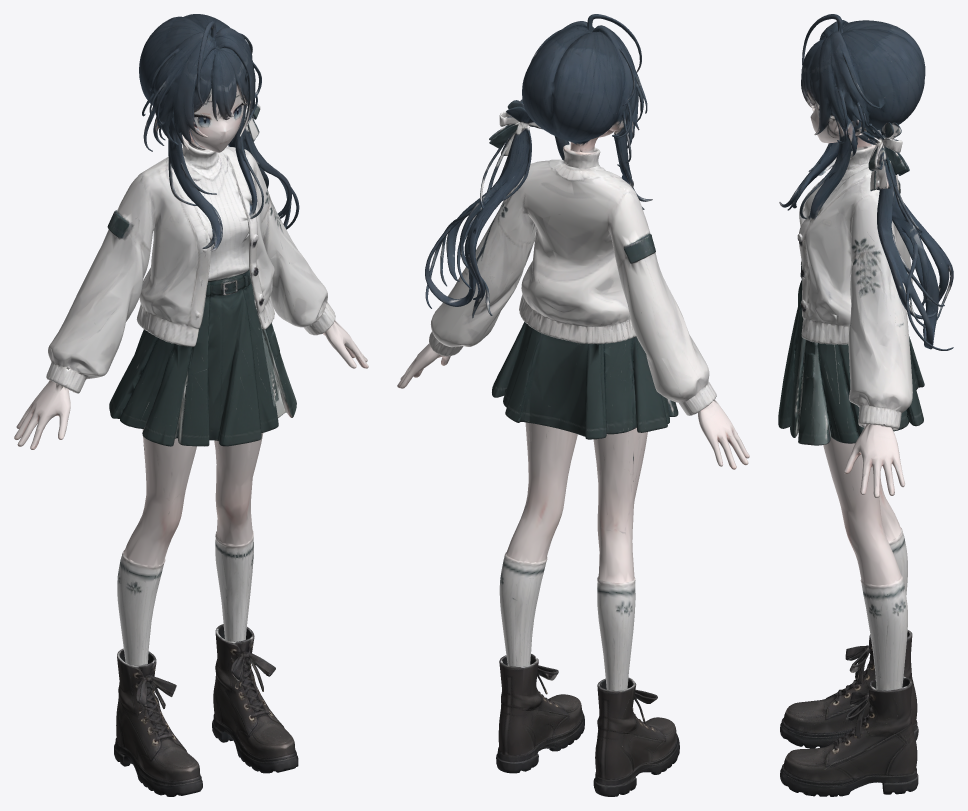
Rendered from lu_qinghe.glb.
3 renders of one model, left to right at view 1: azimuth 30°, elevation 25°; view 2: azimuth 150°, elevation 25°; view 3: azimuth 270°, elevation 25°, orthographic.
Parts seen in each view (by area): view 1: Mesh_0; view 2: Mesh_0; view 3: Mesh_0.
Part boxes in pixels (bbox=[...]): Mesh_0: bbox=[14, 14, 368, 796]; Mesh_0: bbox=[397, 14, 749, 796]; Mesh_0: bbox=[778, 14, 953, 796].
Size of the model in its own units: 0.8073 by 1.65 by 0.3514.
1 material, 1 textured.
